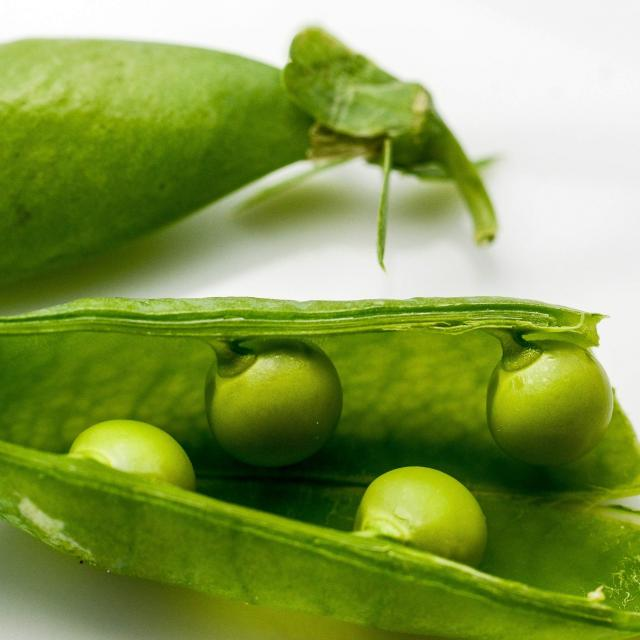pea: (6, 300, 637, 640), (201, 340, 350, 474), (491, 334, 615, 469), (358, 467, 488, 567)
